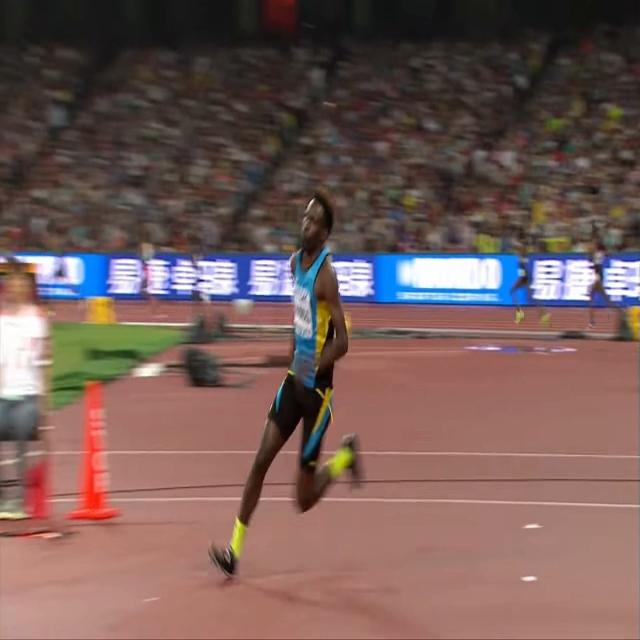run: (204, 193, 366, 575)
